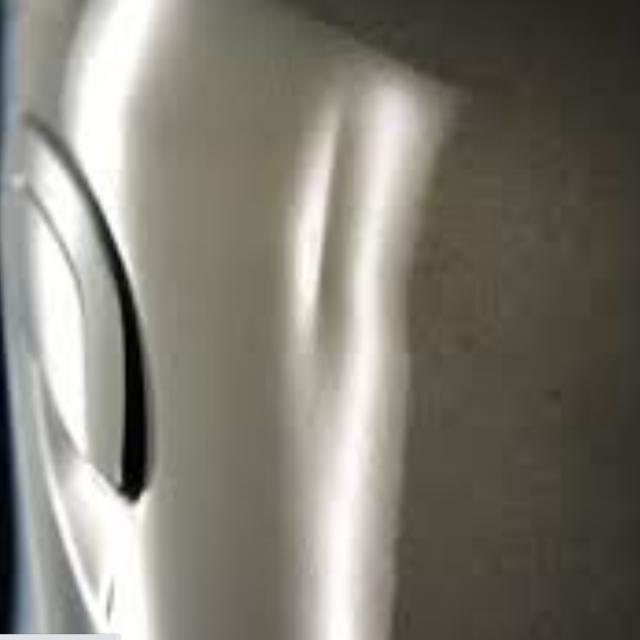dents: (305, 98, 376, 392)
